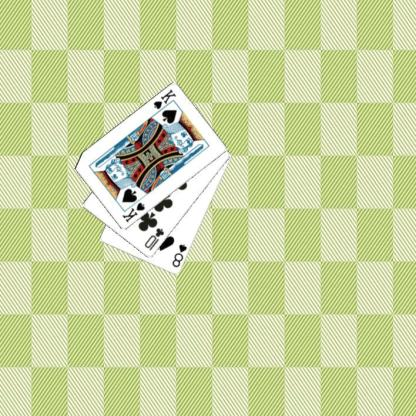10C: (142, 226, 166, 252)
8S: (169, 242, 188, 269)
KS: (150, 87, 178, 115), (120, 200, 146, 224)
